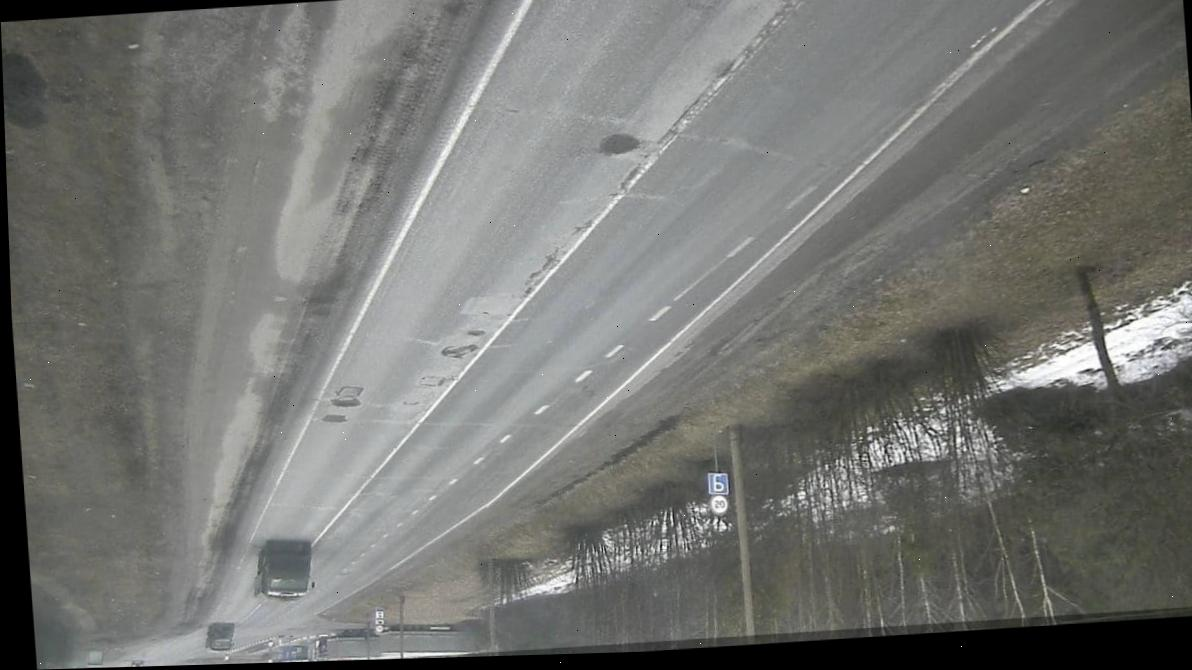truck: (240, 529, 319, 604), (200, 620, 241, 653)
